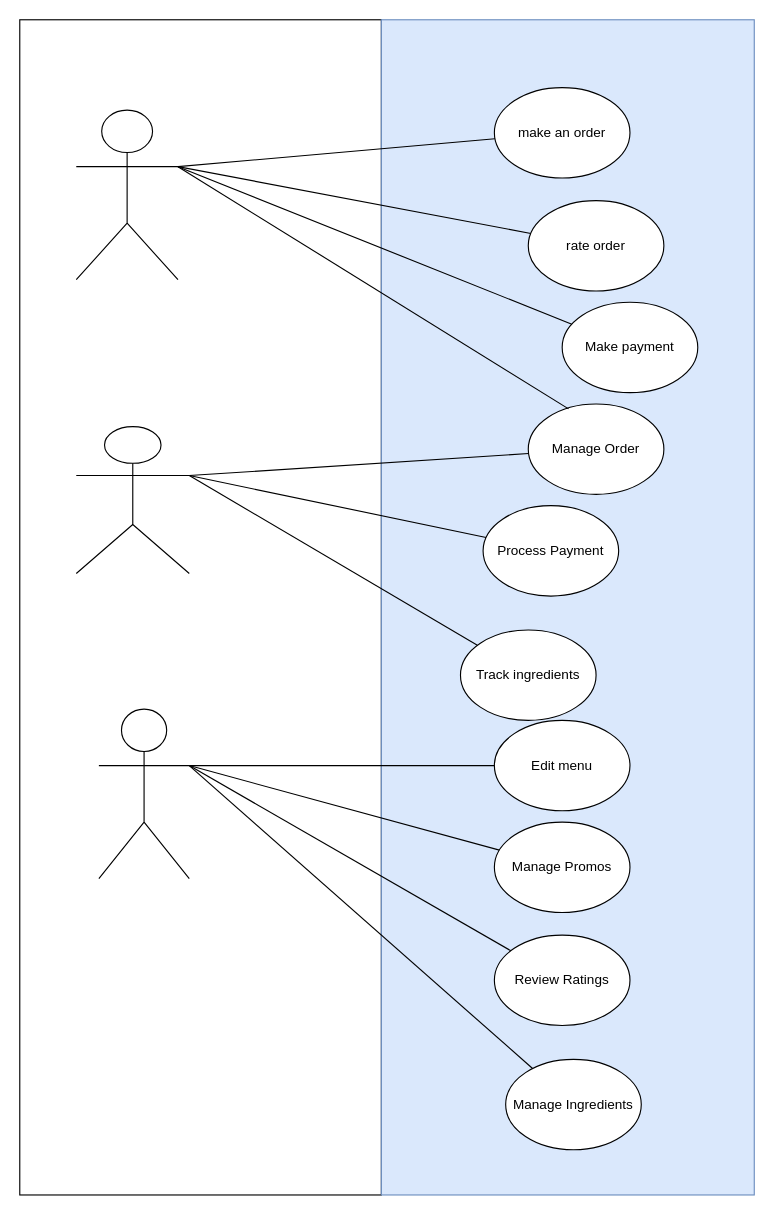
This 774x1215 diagram has some shape labels left out. Each missing label, with the centre of its shape:
Customer: point 126,194
Managment: point 143,793
Staff: point 132,499
